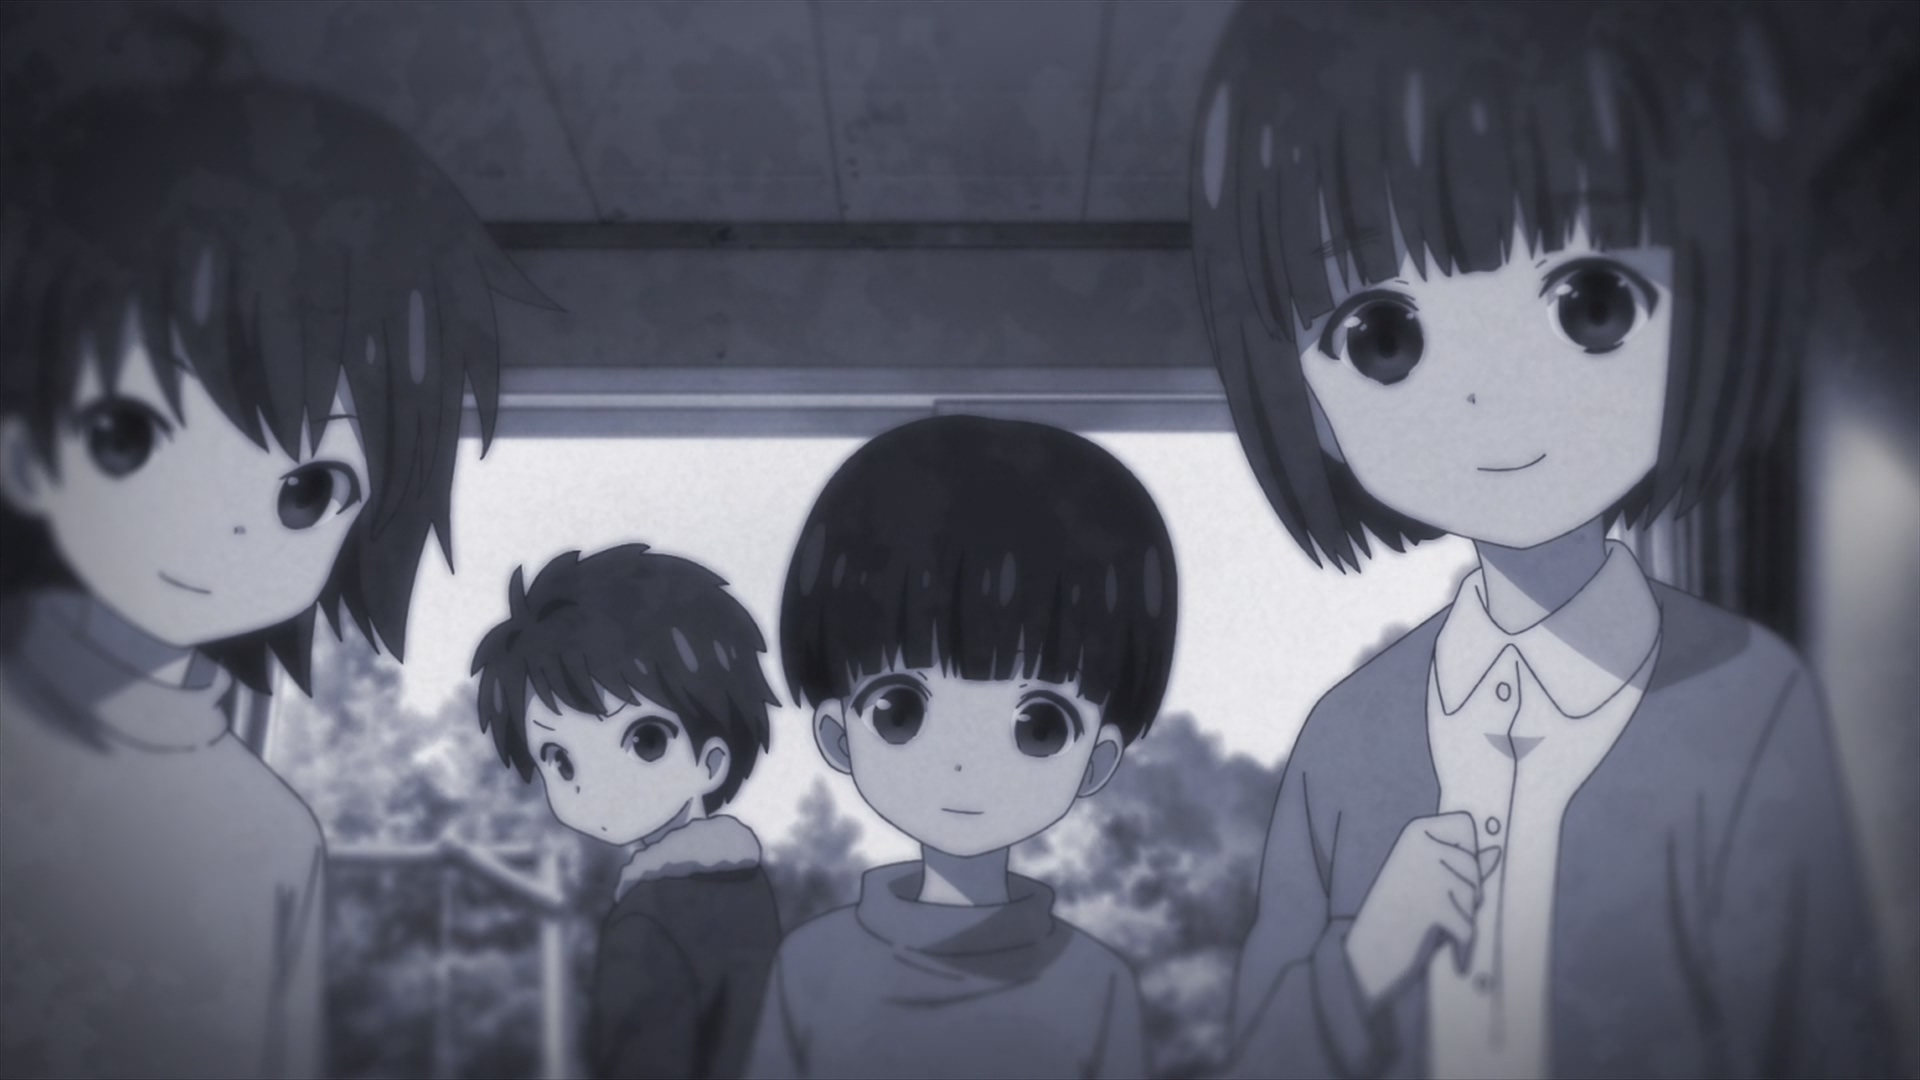其他: (1189, 1, 1905, 1080), (1, 80, 567, 1080), (741, 415, 1182, 1080), (471, 545, 785, 1080)
